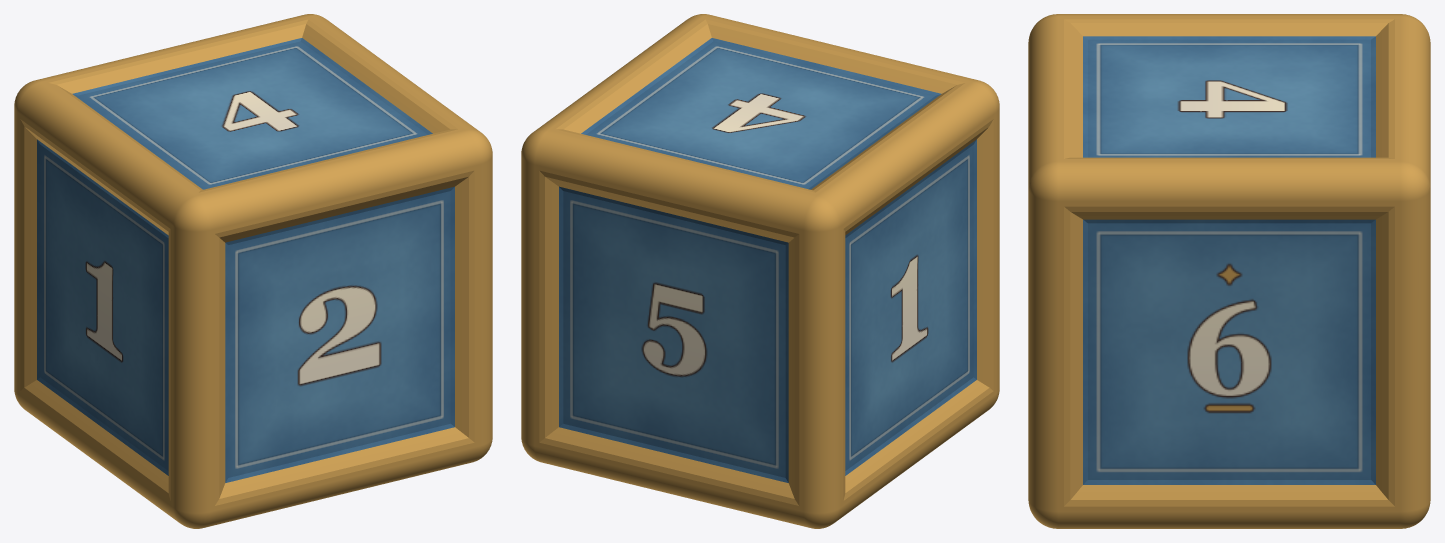
The model's file is d6_skin.glb.
The picture shows the model from 3 angles, left to right: view 1: azimuth 30°, elevation 25°; view 2: azimuth 150°, elevation 25°; view 3: azimuth 270°, elevation 25°; orthographic projection. The views are drawn at different scales.
Visible parts, largest first — view 1: D6 · sea-mist ceramic; view 2: D6 · sea-mist ceramic; view 3: D6 · sea-mist ceramic.
Boxes of the visible parts, x1,y1,x2,y2 form: D6 · sea-mist ceramic: [14, 14, 492, 528]; D6 · sea-mist ceramic: [521, 14, 999, 528]; D6 · sea-mist ceramic: [1028, 14, 1430, 528].
Size of the model in its own units: 1.23 by 1.23 by 1.23.
2 materials, 1 textured.
